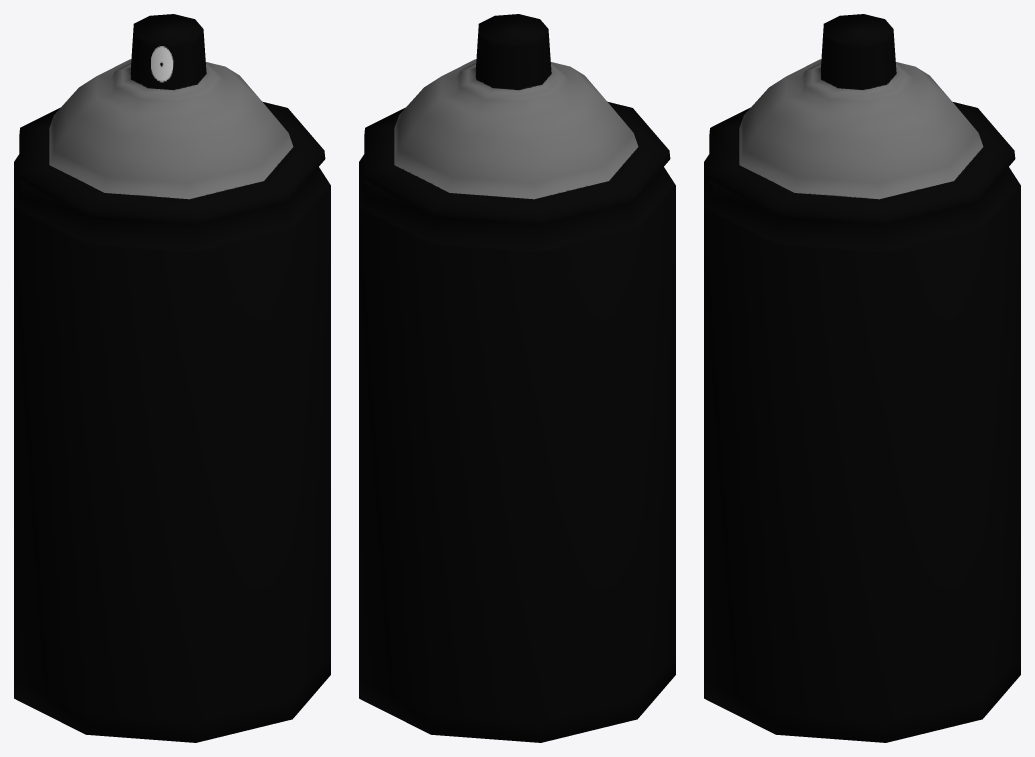
Rendered from Black_can.gltf.
3 views of the same model, side by side, from view 1: azimuth 30°, elevation 25°; view 2: azimuth 150°, elevation 25°; view 3: azimuth 270°, elevation 25° (orthographic).
Parts seen in each view (by area): view 1: Cylinder.009; view 2: Cylinder.009; view 3: Cylinder.009.
Part boxes in pixels (x1,y1,x2,y2): Cylinder.009: [14, 14, 330, 742]; Cylinder.009: [359, 14, 675, 742]; Cylinder.009: [704, 14, 1020, 742].
Bounding box in the file's own units: 0.1543 × 0.3419 × 0.1519.
Materials: 1 (1 with a texture image).
